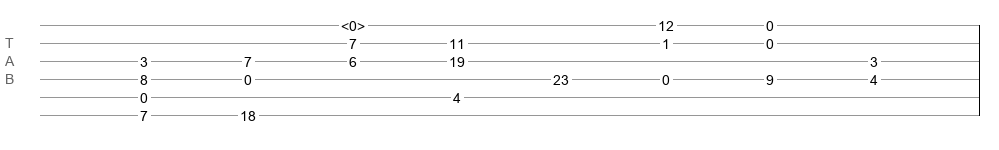0: (140, 90, 148, 100), (244, 72, 252, 82), (662, 72, 670, 82), (766, 18, 774, 28), (766, 36, 774, 46)
1: (662, 36, 670, 46)
11: (449, 36, 465, 46)
12: (658, 18, 674, 28)
18: (240, 108, 256, 118)
19: (449, 54, 465, 64)
23: (553, 72, 569, 82)
3: (140, 54, 148, 64), (870, 54, 878, 64)
4: (453, 90, 461, 100), (870, 72, 878, 82)
6: (349, 54, 357, 64)
7: (140, 108, 148, 118), (244, 54, 252, 64), (349, 36, 357, 46)
8: (140, 72, 148, 82)
9: (766, 72, 774, 82)
harmonic: (341, 18, 365, 28)
